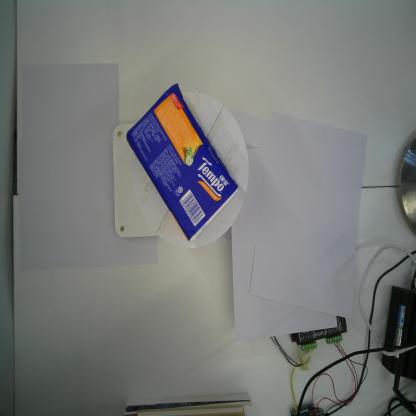Tissue: (125, 83, 239, 244)
